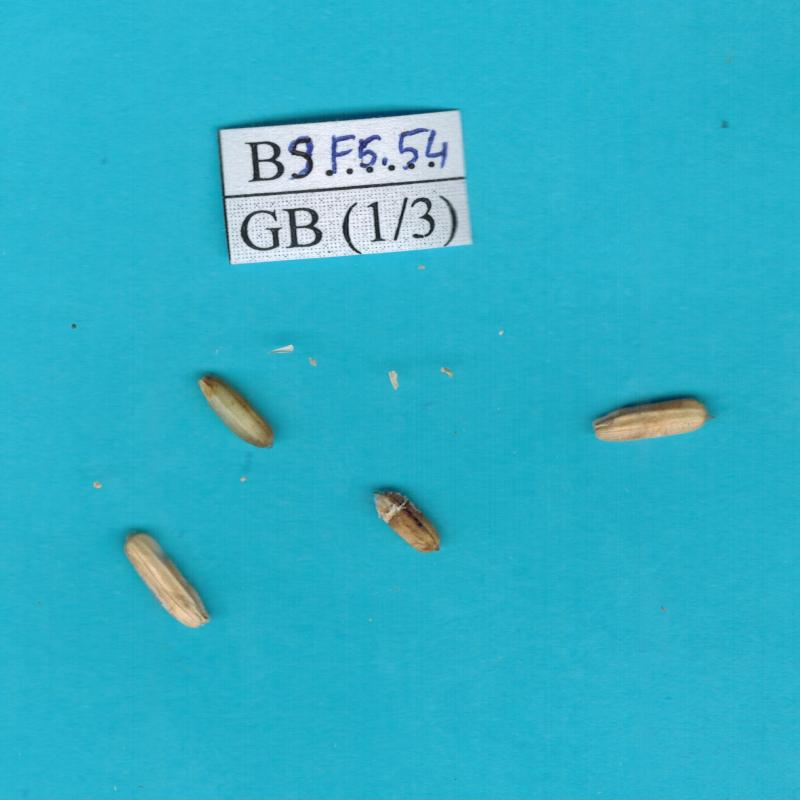Inferior: (123, 534, 210, 629), (198, 377, 273, 448), (592, 398, 715, 441), (375, 491, 440, 554)
